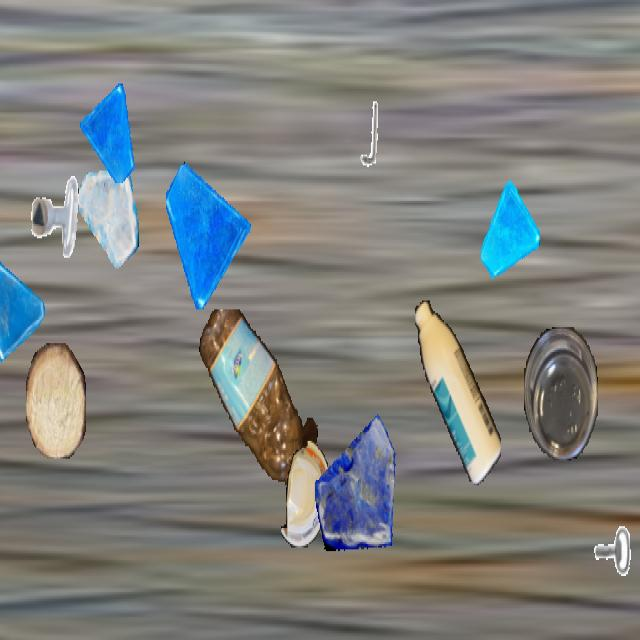glass: (315, 404, 401, 556), (166, 158, 250, 308), (78, 165, 138, 272), (481, 182, 539, 284), (80, 82, 136, 181), (0, 249, 47, 366)
metal: (30, 172, 82, 265), (583, 522, 633, 612), (348, 98, 388, 169)
plastic: (196, 310, 320, 483), (415, 300, 501, 486), (524, 327, 598, 459), (281, 441, 331, 547)
wood: (26, 343, 86, 457)
